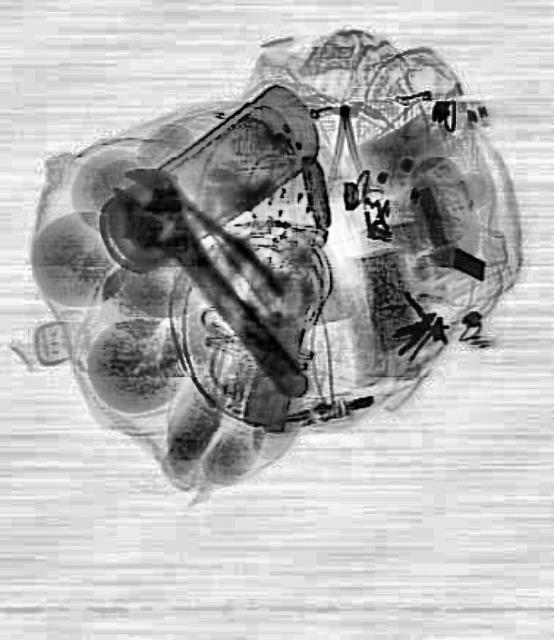Wrench: (94, 146, 332, 422)
